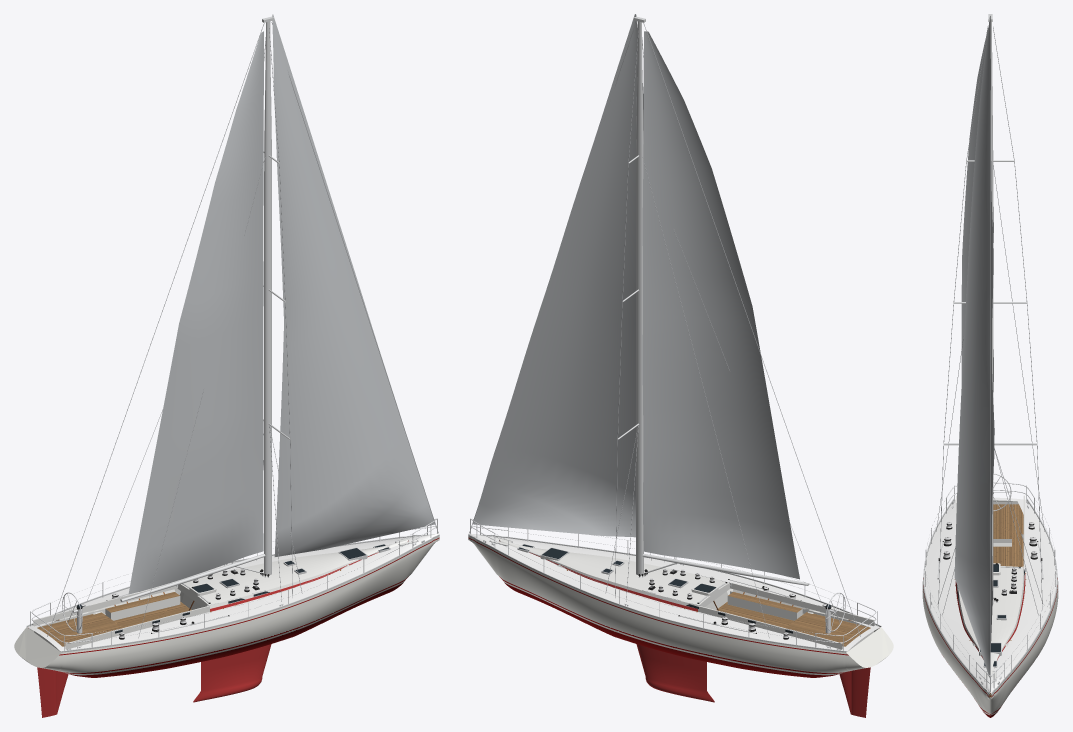
The model's file is swan651.fbx.
3 views of the same model, side by side, from view 1: azimuth 30°, elevation 25°; view 2: azimuth 150°, elevation 25°; view 3: azimuth 270°, elevation 25° (orthographic). The views are drawn at different scales.
Visible parts, largest first — view 1: Headsail, Mainsail, Hull, Deck, Cockpit, Mast, Coachroof, Rigging, Keel, Toerail, Lifelines, Hatches (+2 smaller); view 2: Mainsail, Headsail, Hull, Deck, Cockpit, Coachroof, Mast, Keel, Rigging, Toerail, Lifelines, Hatches (+2 smaller); view 3: Headsail, Deck, Hull, Rigging, Coachroof, Mainsail, Cockpit, Mast, Lifelines, Toerail, Hatches.
Boxes of the visible parts, box(x1,y1,x2,y2) form: Headsail: box(272, 14, 434, 556); Mainsail: box(128, 31, 263, 594); Hull: box(14, 536, 439, 677); Deck: box(27, 533, 439, 651); Cockpit: box(33, 585, 209, 651); Mast: box(262, 16, 290, 575); Coachroof: box(177, 539, 408, 611); Rigging: box(47, 22, 438, 638); Keel: box(193, 644, 271, 702); Toerail: box(26, 534, 439, 652); Lifelines: box(30, 518, 437, 650); Hatches: box(189, 537, 418, 596); Mainsail: box(642, 31, 799, 579); Headsail: box(473, 14, 643, 537); Hull: box(468, 536, 893, 677); Deck: box(468, 533, 880, 651); Cockpit: box(698, 582, 874, 651); Coachroof: box(499, 539, 730, 611); Mast: box(617, 16, 645, 575); Keel: box(636, 644, 714, 702); Rigging: box(469, 22, 860, 638); Toerail: box(468, 534, 881, 652); Lifelines: box(470, 518, 877, 650); Hatches: box(489, 537, 718, 596); Headsail: box(954, 16, 994, 677); Deck: box(924, 497, 1056, 693); Hull: box(922, 500, 1058, 717); Rigging: box(936, 26, 1044, 691); Coachroof: box(955, 566, 1025, 676); Mainsail: box(961, 27, 993, 391); Cockpit: box(956, 495, 1024, 567); Mast: box(943, 14, 1037, 604); Lifelines: box(924, 482, 1056, 691); Toerail: box(923, 498, 1057, 694); Hatches: box(979, 563, 1006, 681).
Bounding box in the file's own units: 1996 × 3087 × 539.
Materials: 32 (3 with a texture image).
